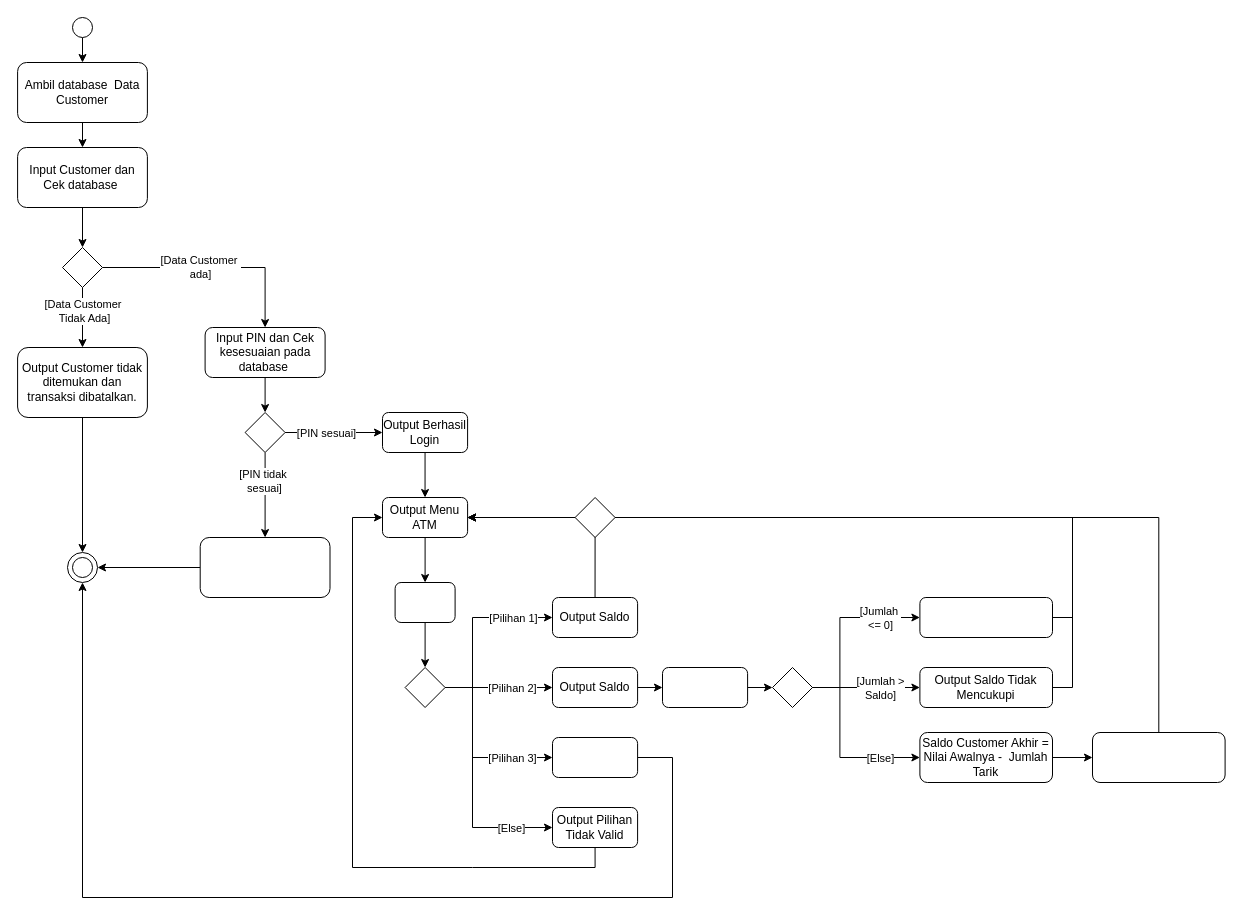
The diagram is 1243 pixels wide and 923 high, and some of its shapes have lost their labels. Here are the shapes that lost their labels. From the top down, the centre of each, then its label:
At pixel 264 567: "Output PIN Salah dan Transaksi dibatalkan".
At pixel 424 602: "Input Pilihan".
At pixel 985 617: "Output Tidak Valid".
At pixel 705 687: "Input Jumlah Penarikan".
At pixel 595 757: "Output Terima kasih".
At pixel 1158 757: "Output Customer, Jumlah Tarik, Saldo".
